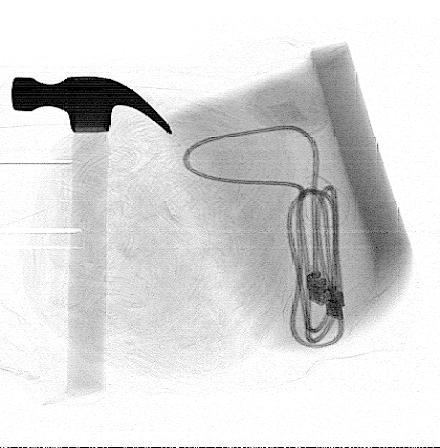Hammer: (10, 76, 173, 398)
